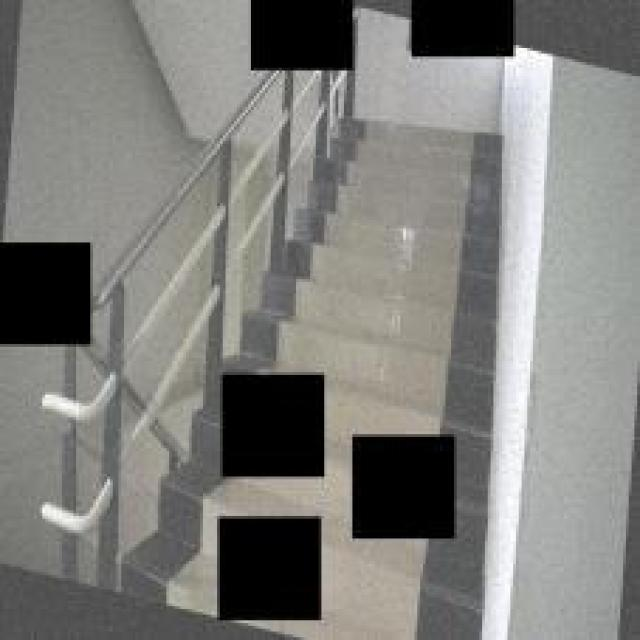upstair: (337, 108, 495, 410)
